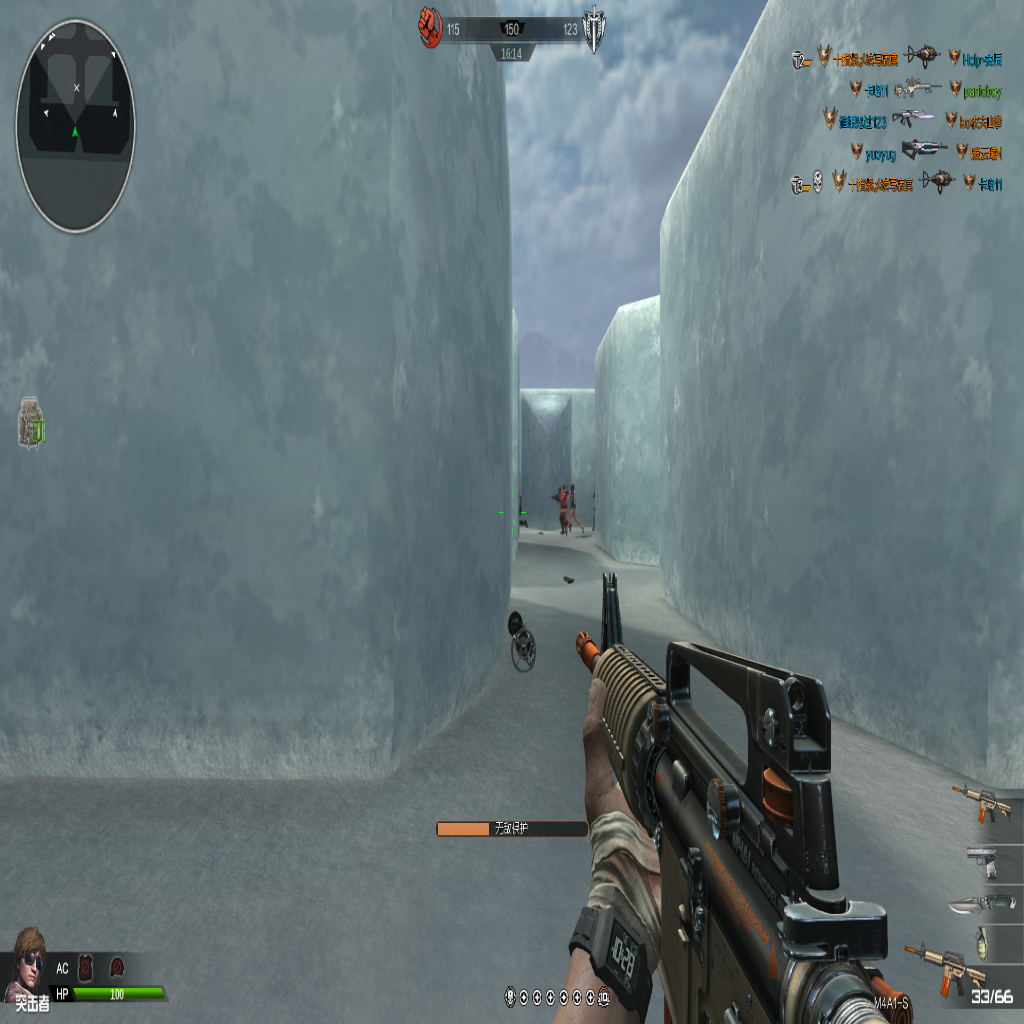ct: (557, 484, 569, 536)
